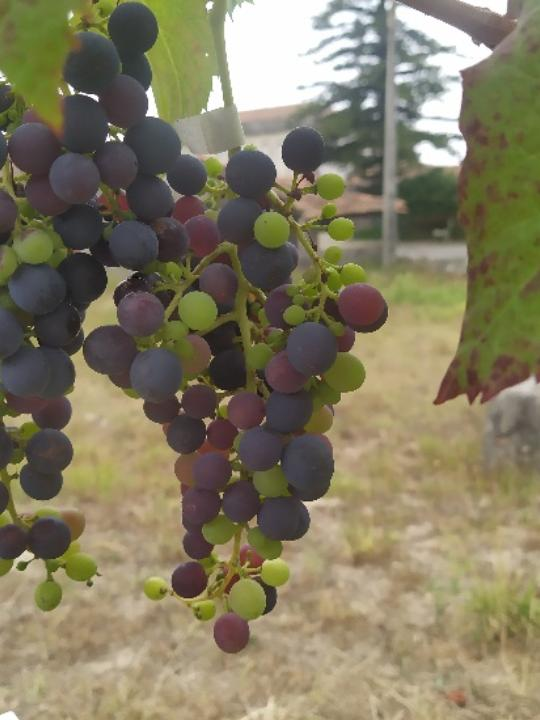grape: (79, 128, 393, 659), (0, 0, 203, 611)
